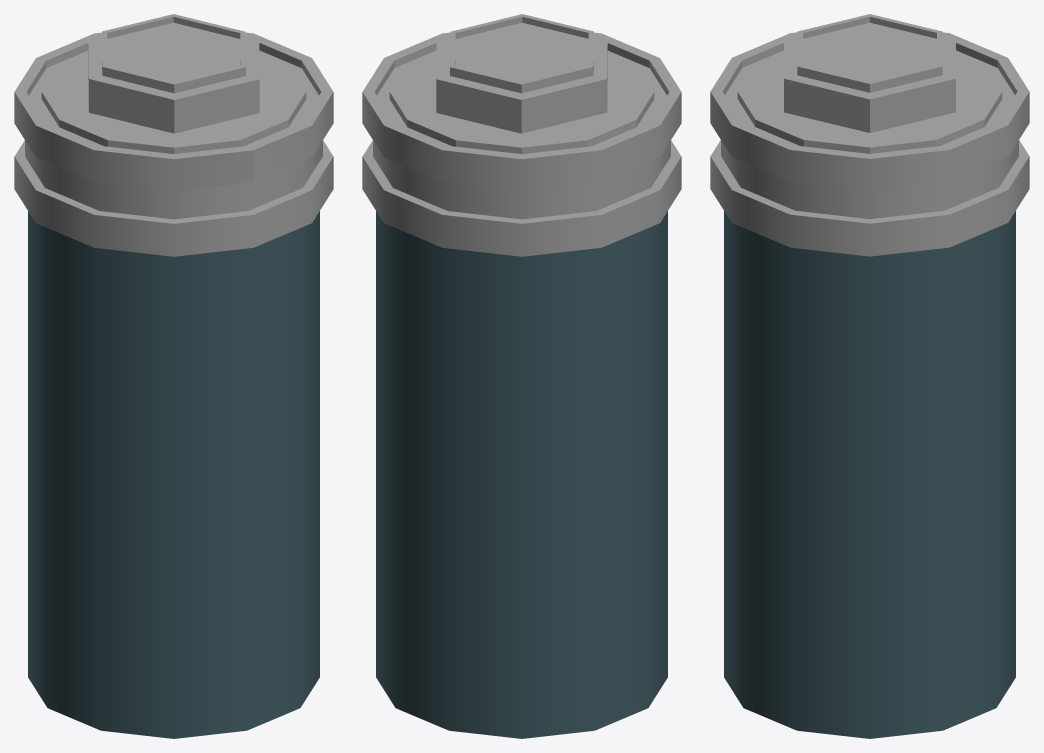
The model's file is SM_Forge_Structure_B.fbx.
3 renders of one model, left to right at view 1: azimuth 30°, elevation 25°; view 2: azimuth 150°, elevation 25°; view 3: azimuth 270°, elevation 25°, orthographic.
Visible parts, largest first — view 1: SM_Shield_Mesh, SM_Base_Inner, SM_Base_Ceiling; view 2: SM_Shield_Mesh, SM_Base_Inner, SM_Base_Ceiling; view 3: SM_Shield_Mesh, SM_Base_Inner, SM_Base_Ceiling.
Boxes of the visible parts, <box> form: SM_Shield_Mesh: <box>28,211,319,738</box>; SM_Base_Inner: <box>14,14,333,190</box>; SM_Base_Ceiling: <box>14,140,333,256</box>; SM_Shield_Mesh: <box>376,211,667,738</box>; SM_Base_Inner: <box>362,14,681,190</box>; SM_Base_Ceiling: <box>362,140,681,256</box>; SM_Shield_Mesh: <box>724,211,1015,738</box>; SM_Base_Inner: <box>710,14,1029,190</box>; SM_Base_Ceiling: <box>710,140,1029,256</box>.
Size of the model in its own units: 235 by 510 by 235.
